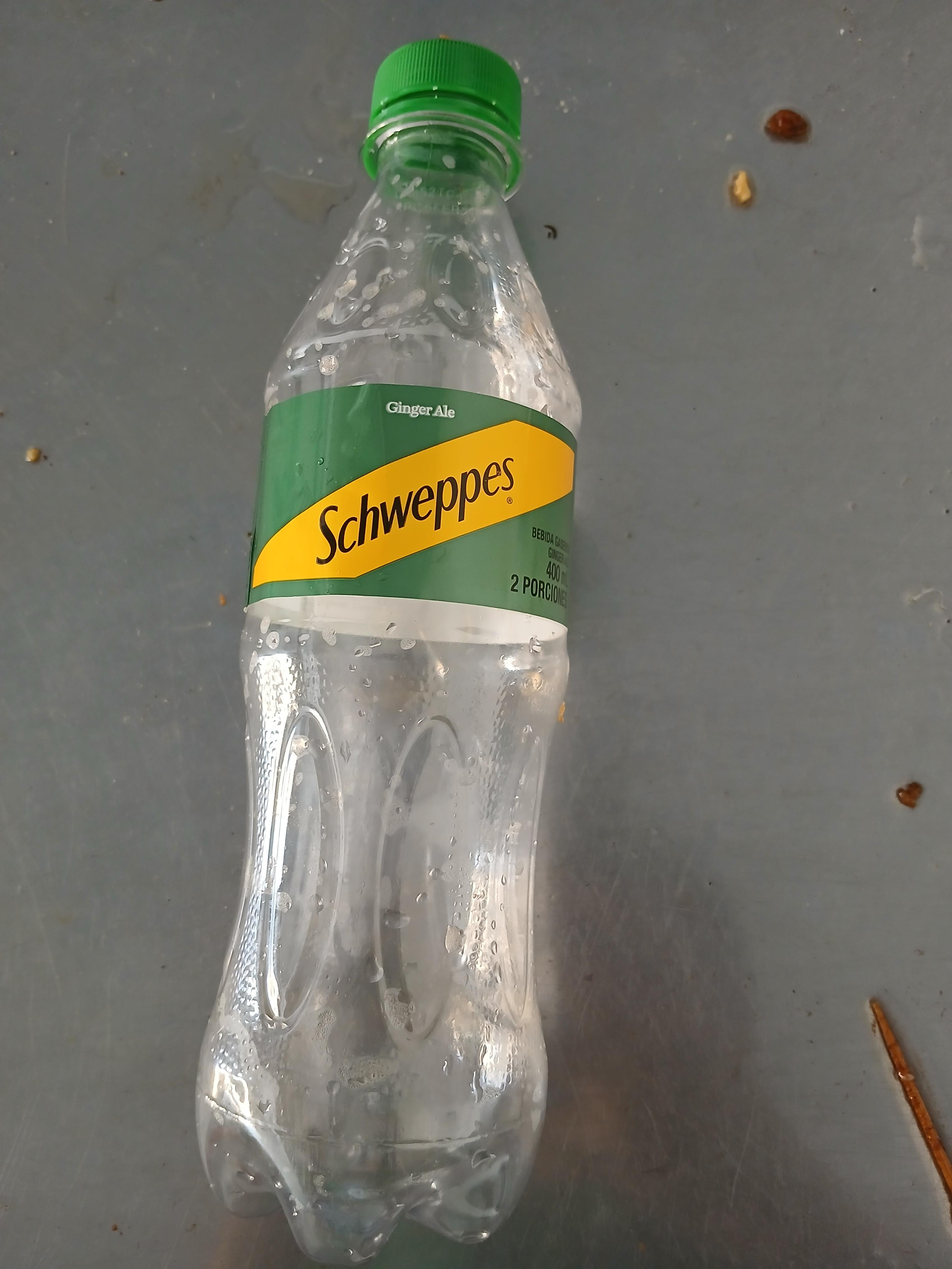Plastico: (193, 39, 581, 1264)
